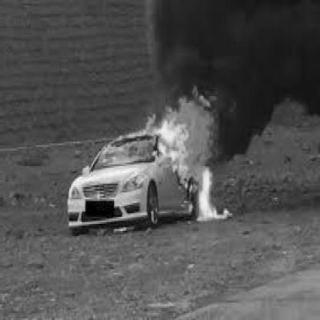Fire: (102, 83, 235, 223)
